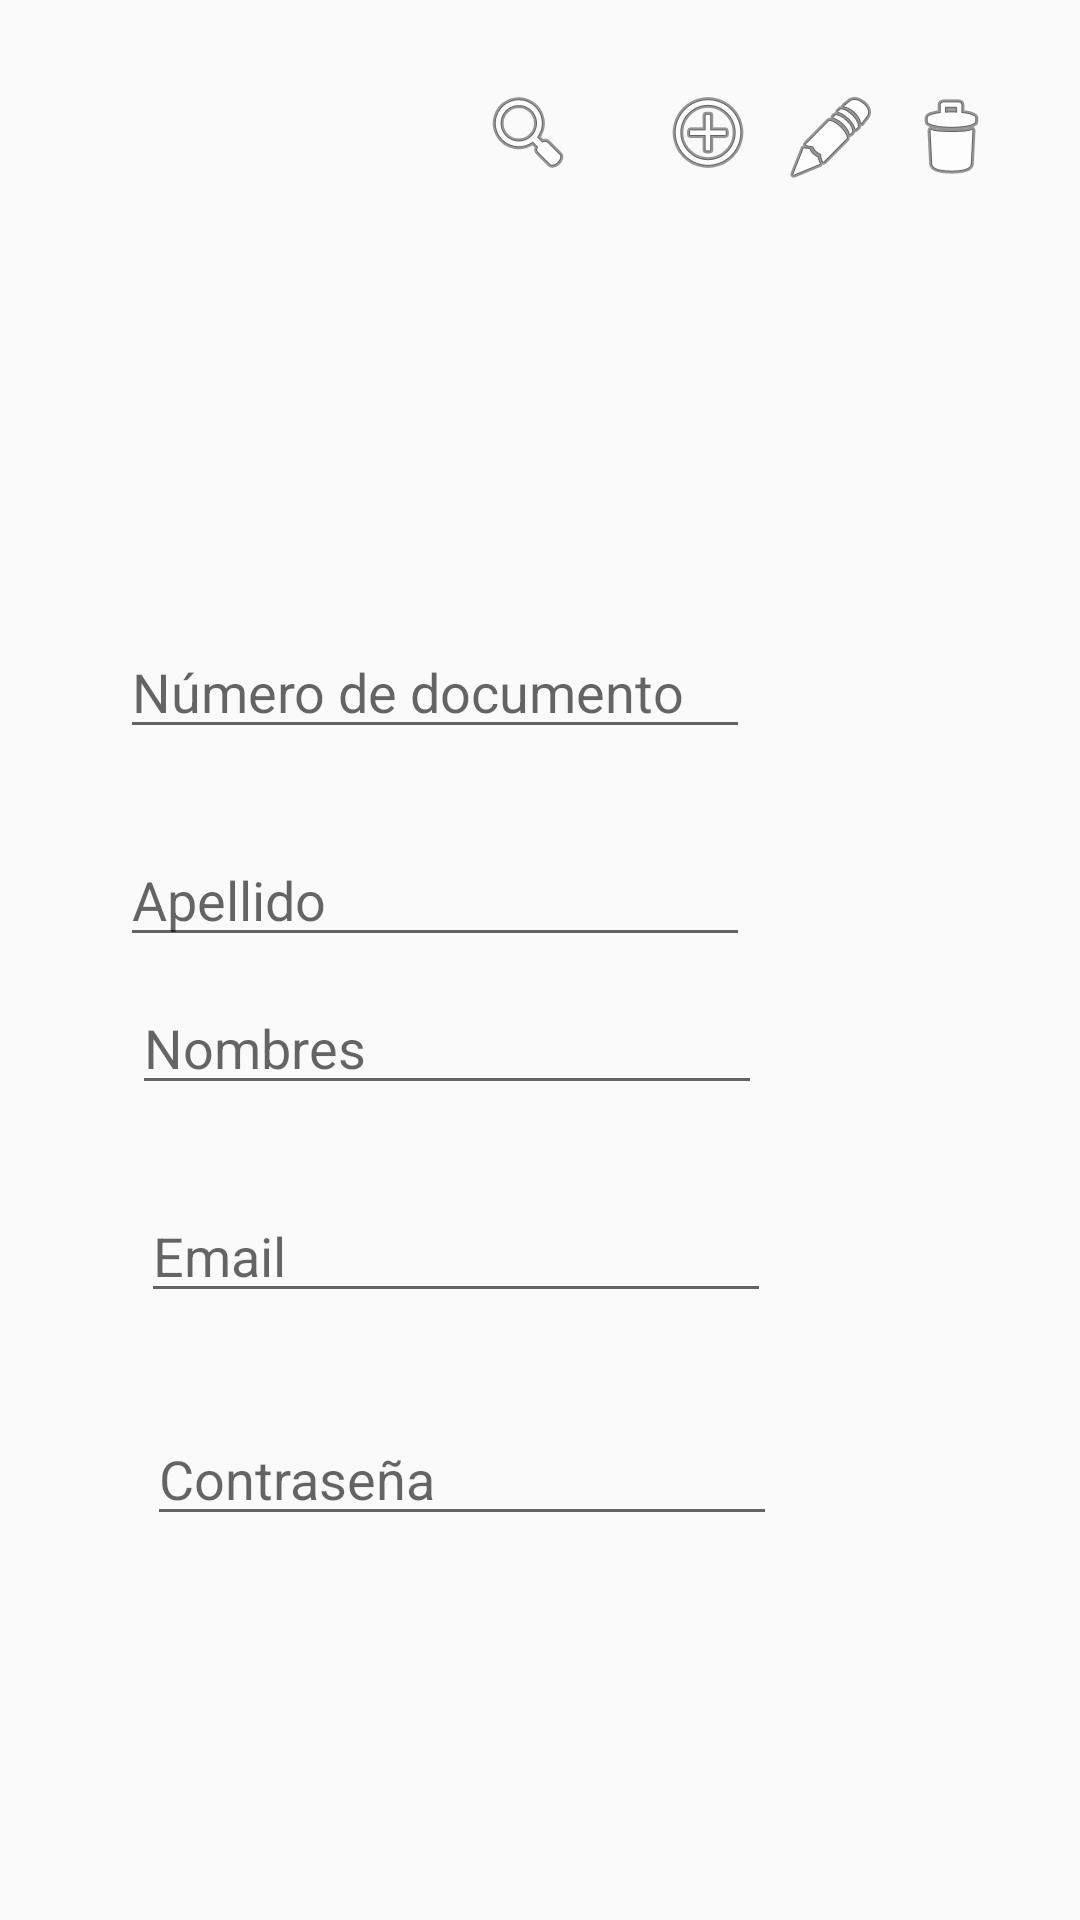

Point at icon controls on the screen. Image size 1080 x 1920, points as point (x, y).
add: point (708, 132)
delete: point (951, 136)
edit: point (830, 137)
search: point (528, 132)
